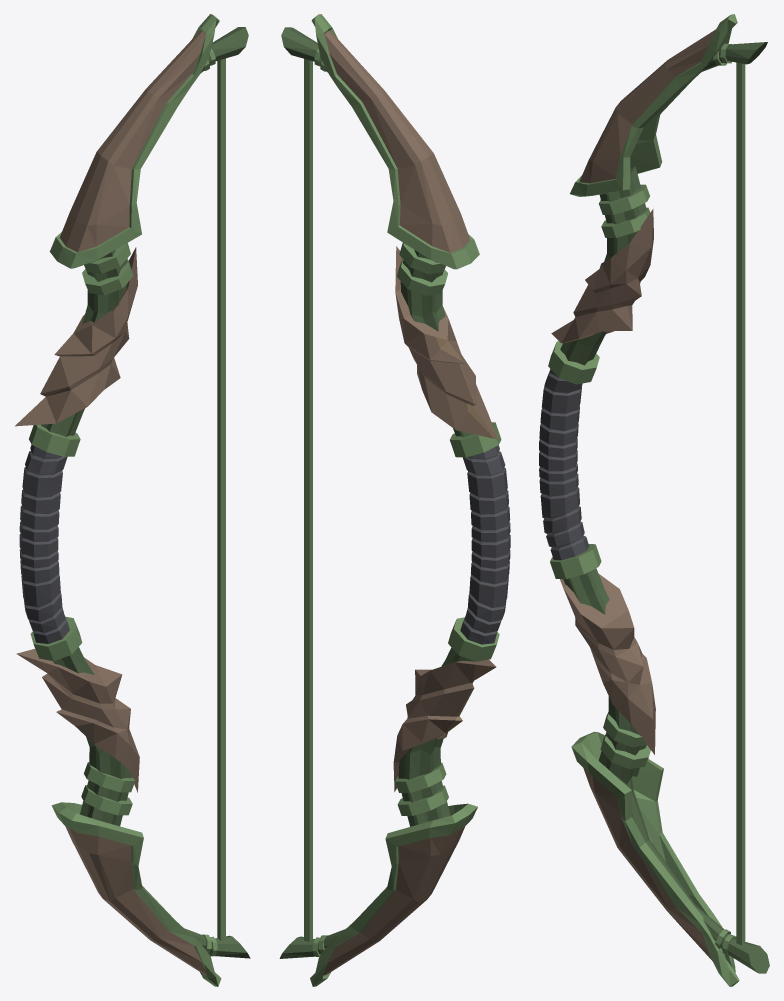
Rendered from bow-craft-20.glb.
The picture shows the model from 3 angles, left to right: view 1: azimuth 30°, elevation 25°; view 2: azimuth 150°, elevation 25°; view 3: azimuth 330°, elevation 25°; orthographic projection.
Parts seen in each view (by area): view 1: bow_20; view 2: bow_20; view 3: bow_20.
Boxes of the visible parts, bbox=[...] form: bow_20: bbox=[15, 14, 250, 986]; bow_20: bbox=[279, 14, 510, 986]; bow_20: bbox=[539, 14, 769, 986].
Size of the model in its own units: 29.97 by 123 by 8.65.
Materials: 1 (1 with a texture image).
